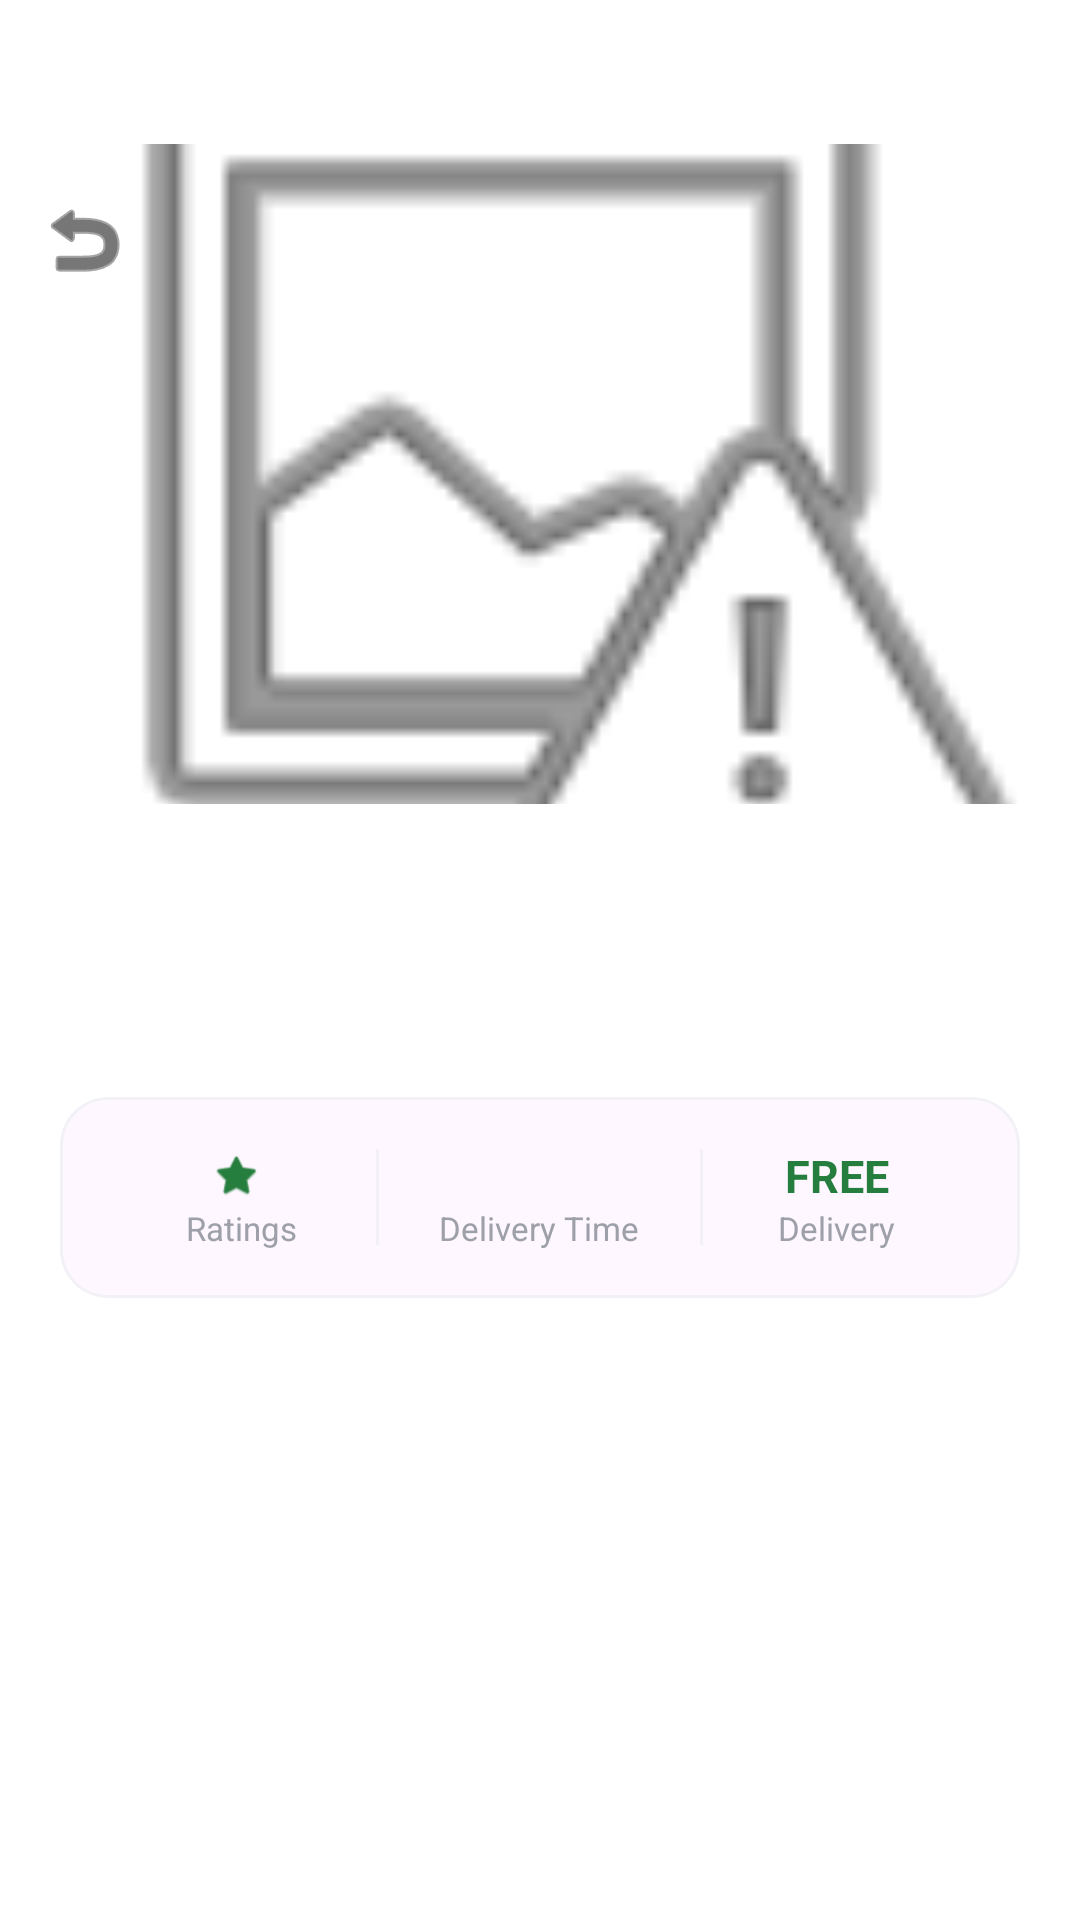

Screen size 1080 × 1920. Icon name, then its center in pixels as (x=x, y=y):
star on: (x=236, y=1175)
